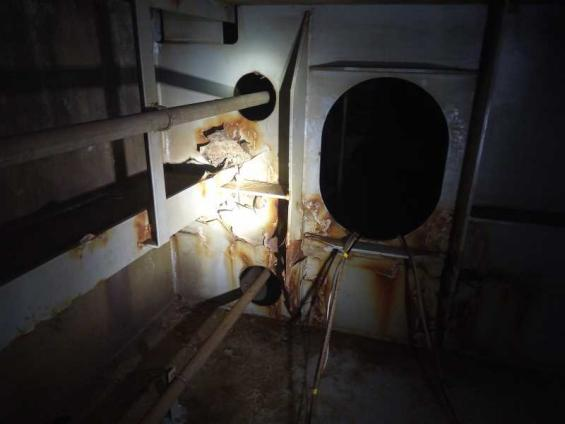corrosion: (193, 227, 260, 294), (190, 113, 272, 167), (361, 261, 405, 344), (276, 240, 310, 322), (298, 198, 360, 239), (122, 213, 163, 258), (407, 210, 446, 251), (60, 230, 110, 259)
